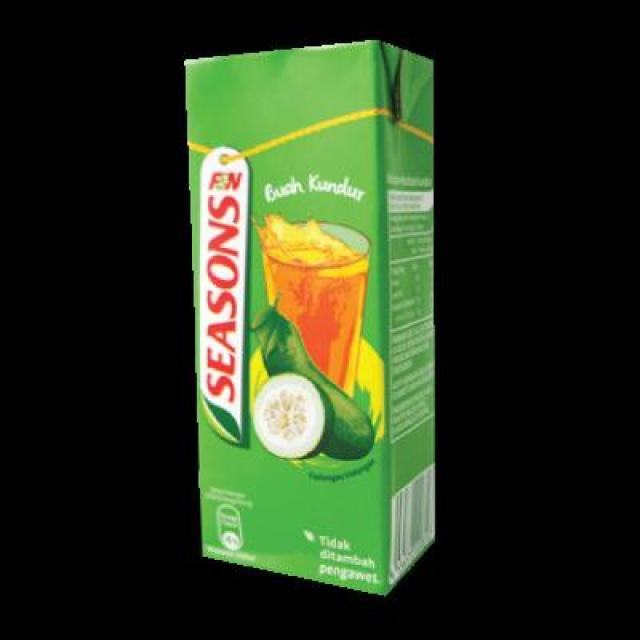drink carton: (182, 40, 436, 592)
